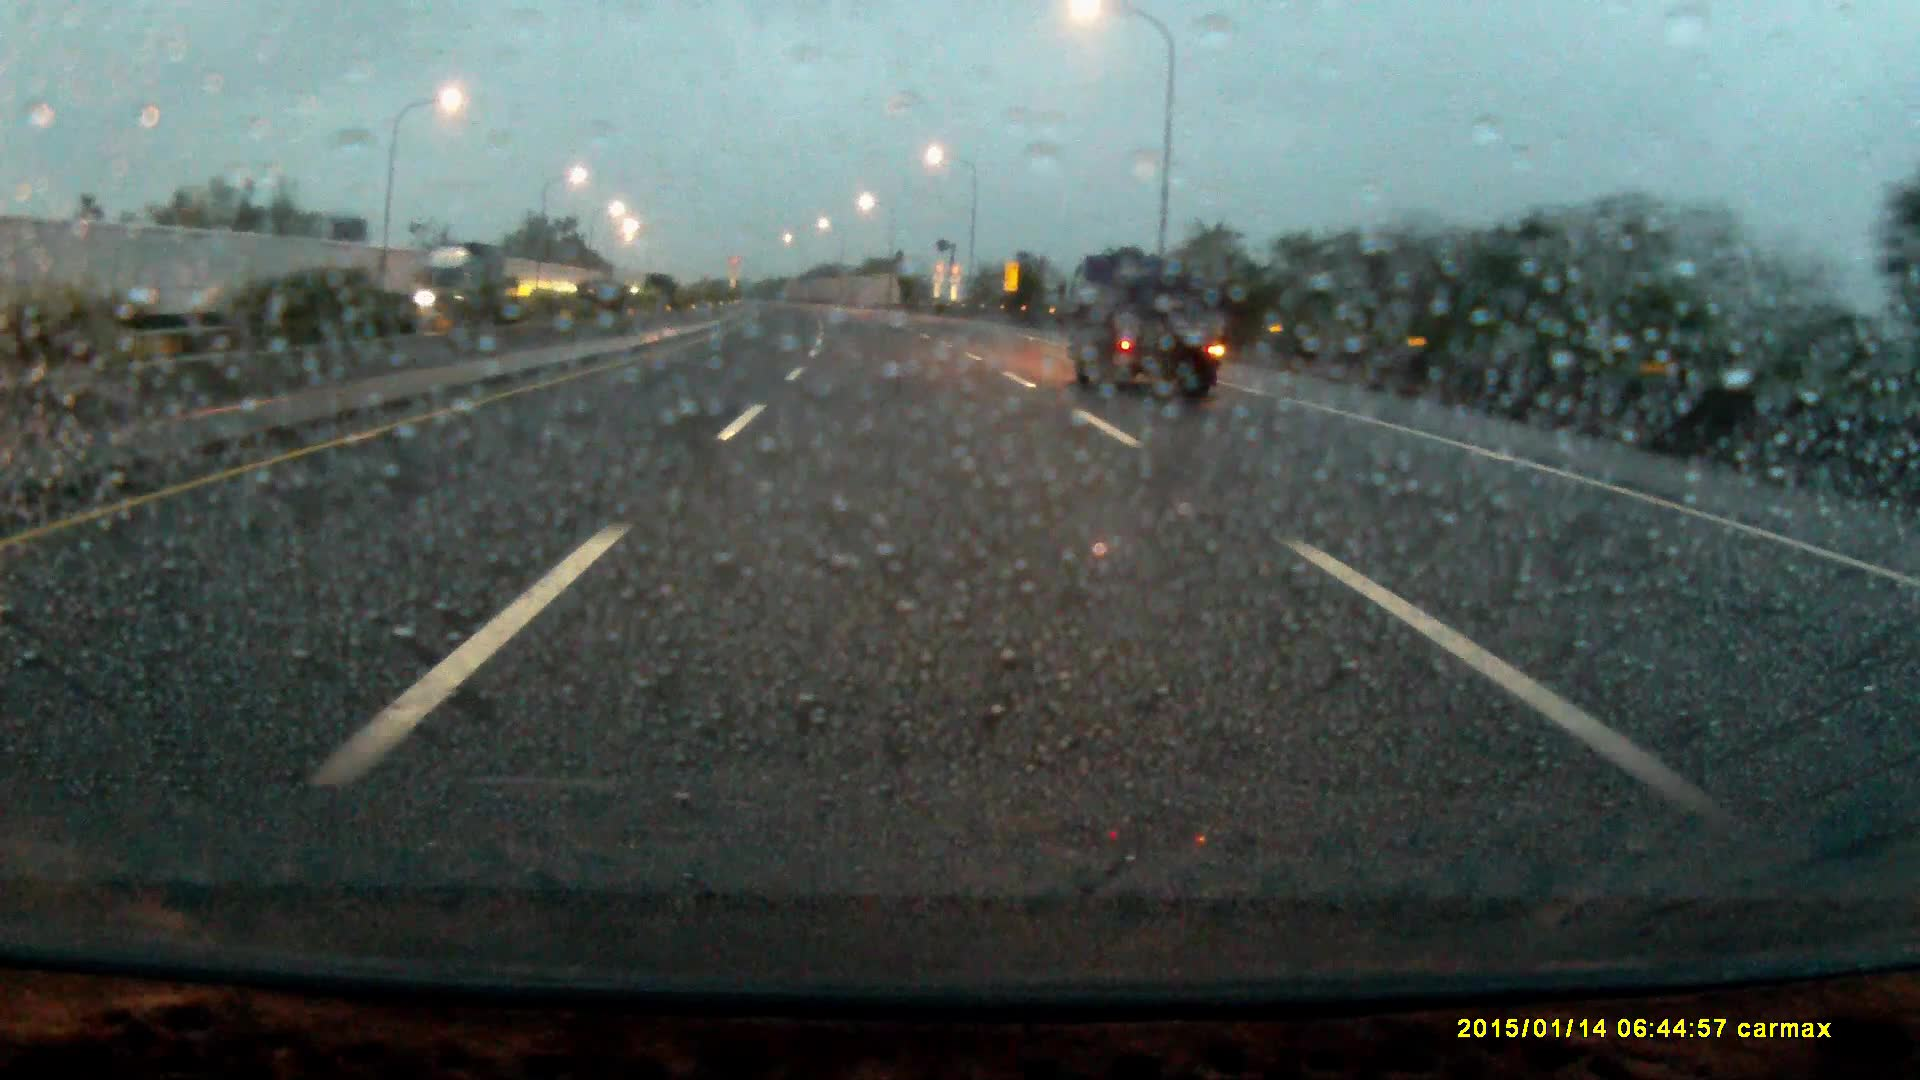vehicle: (1065, 251, 1218, 404), (417, 241, 509, 328)
